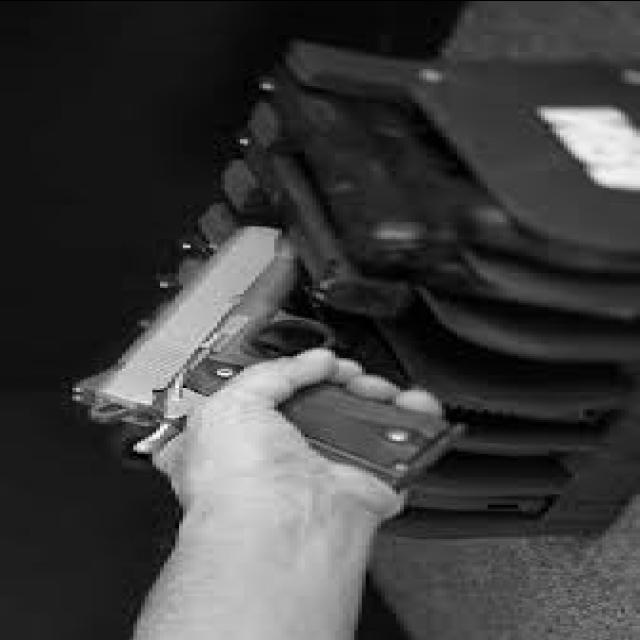weapons: (52, 218, 470, 496)
